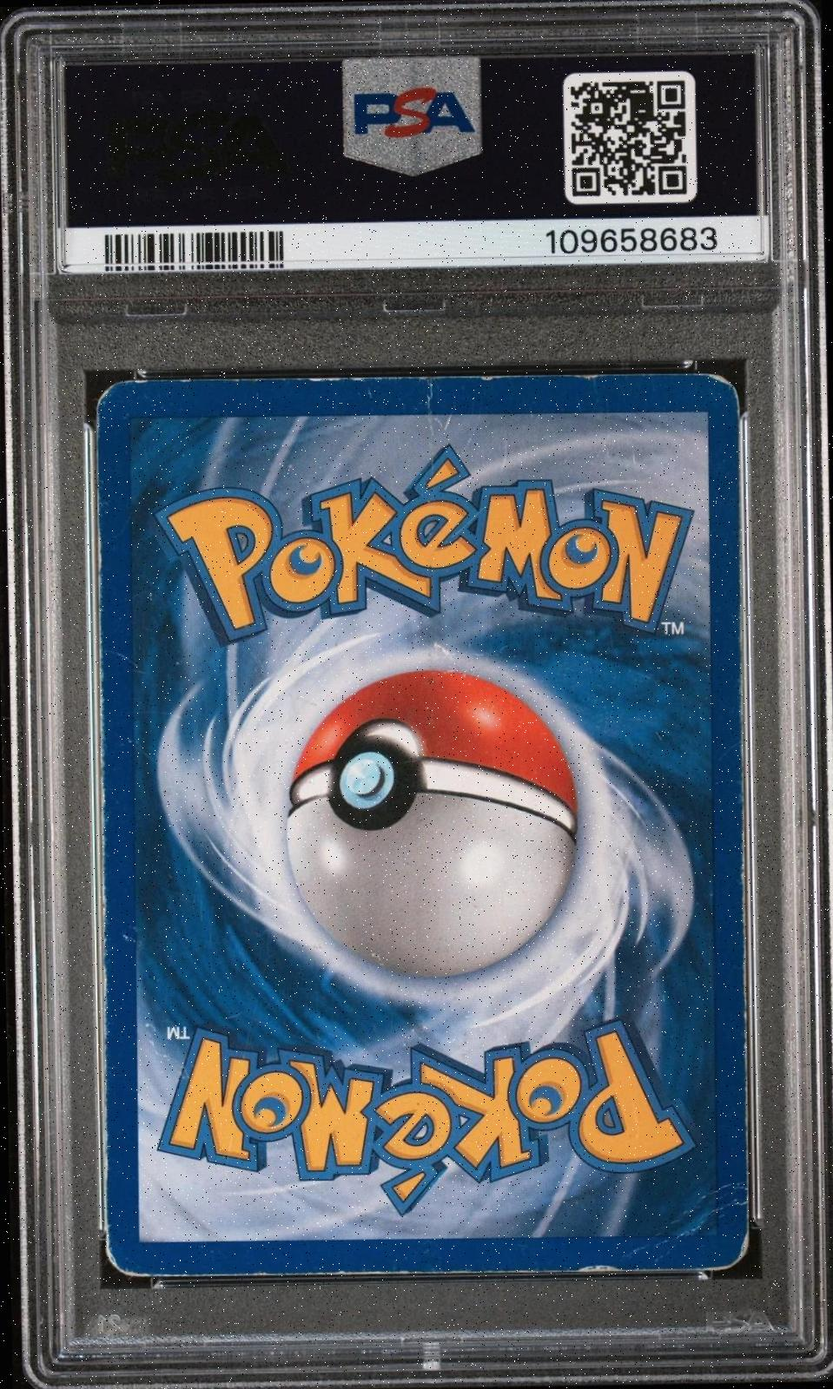card-2UtV: (95, 373, 748, 1277)
